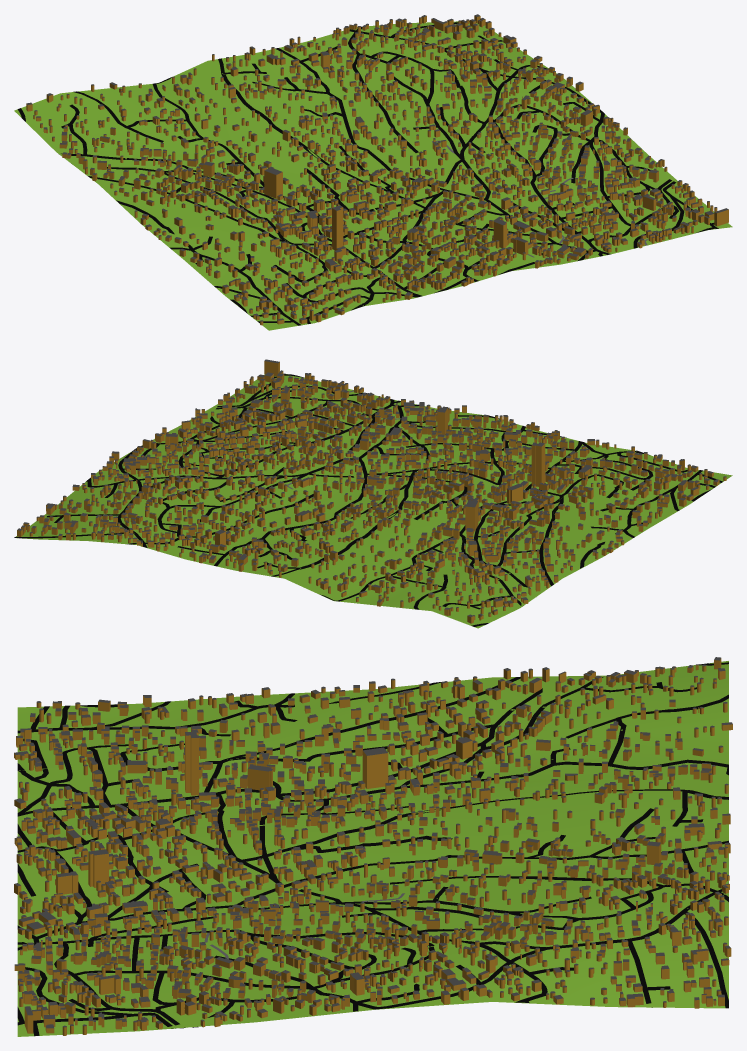
The model's file is tile_02_06.glb.
3 renders of one model, top to bottom at view 1: azimuth 30°, elevation 25°; view 2: azimuth 150°, elevation 25°; view 3: azimuth 270°, elevation 25°, orthographic. The views are drawn at different scales.
Parts seen in each view (by area): view 1: Terrain_02_06, Ub_small.osm_buildings_02_06, Ub_small.osm_roads_residential_02_06; view 2: Ub_small.osm_buildings_02_06, Terrain_02_06, Ub_small.osm_roads_residential_02_06; view 3: Terrain_02_06, Ub_small.osm_buildings_02_06, Ub_small.osm_roads_residential_02_06.
Boxes of the visible parts, left/top/right/bottom form: Terrain_02_06: left=14, top=21, right=732, bottom=330; Ub_small.osm_buildings_02_06: left=26, top=14, right=728, bottom=325; Ub_small.osm_roads_residential_02_06: left=17, top=21, right=718, bottom=325; Ub_small.osm_buildings_02_06: left=17, top=359, right=726, bottom=623; Terrain_02_06: left=16, top=374, right=732, bottom=628; Ub_small.osm_roads_residential_02_06: left=14, top=373, right=722, bottom=626; Terrain_02_06: left=17, top=661, right=728, bottom=1036; Ub_small.osm_buildings_02_06: left=14, top=657, right=732, bottom=1035; Ub_small.osm_roads_residential_02_06: left=17, top=662, right=728, bottom=1036.
Size of the model in its own units: 987 by 109 by 940.
